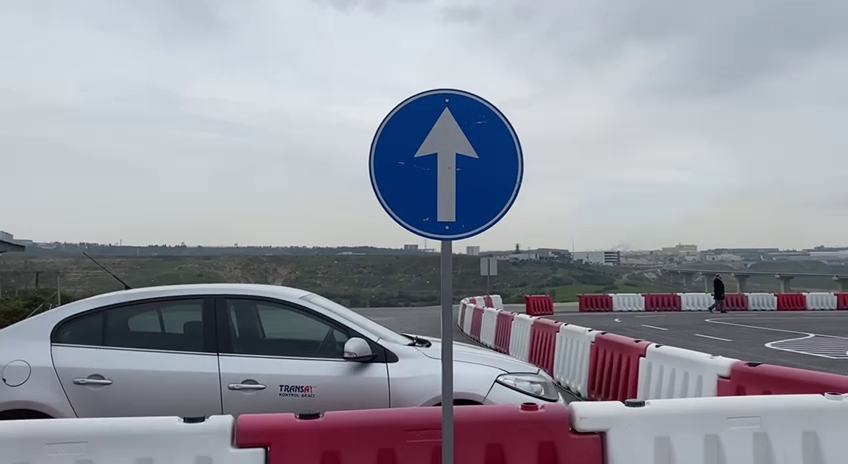forward: (363, 82, 529, 247)
